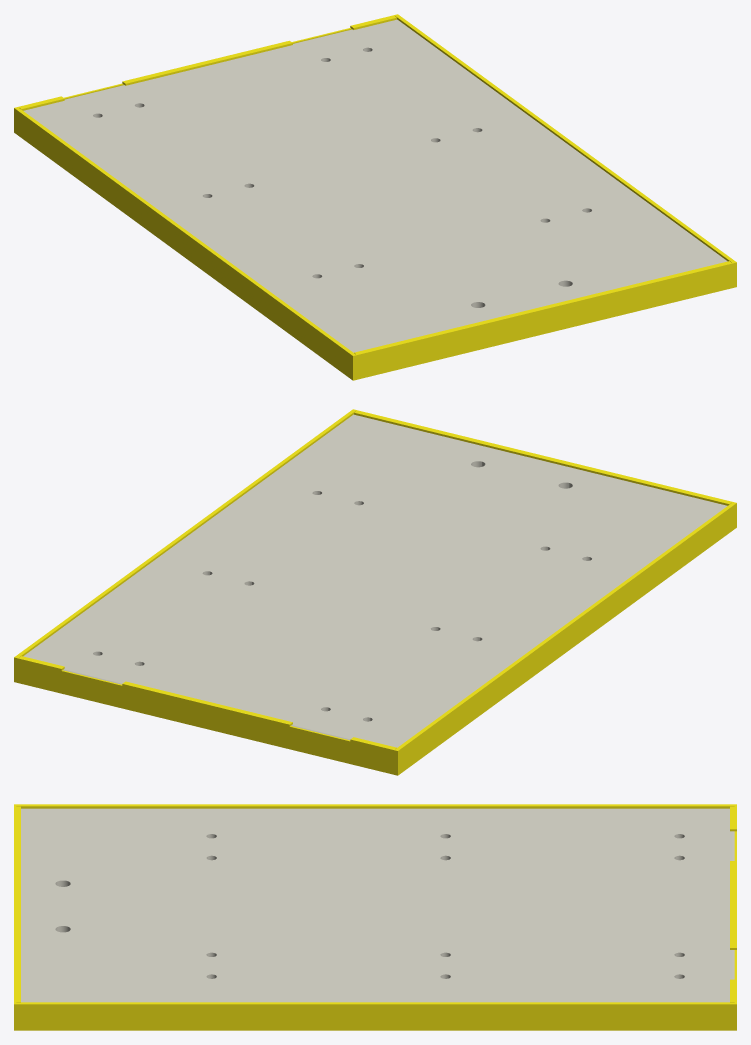
Rendered from frameLGSBlock1.glb.
3 views of the same model, one above another, from view 1: azimuth 30°, elevation 25°; view 2: azimuth 150°, elevation 25°; view 3: azimuth 270°, elevation 25° (orthographic). The views are drawn at different scales.
Parts seen in each view (by area): view 1: Body1002, Body1031, Body1029, Body1027, Body1033; view 2: Body1002, Body1033, Body1029, Body1031, Body1027; view 3: Body1002, Body1027, Body1029, Body1031, Body1033.
Boxes of the visible parts, x1,y1,x2,y2 form: Body1002: (23,19,727,352); Body1031: (352,261,736,380); Body1029: (15,108,355,379); Body1027: (395,15,735,262); Body1033: (14,14,398,132); Body1002: (23,414,727,747); Body1033: (14,656,398,775); Body1029: (395,503,735,774); Body1031: (352,409,736,527); Body1027: (15,410,355,657); Body1002: (21,808,734,1002); Body1027: (16,1002,734,1030); Body1029: (16,804,734,808); Body1031: (14,804,20,1030); Body1033: (730,804,736,1030).
Size of the model in its own units: 2.02 by 0.132 by 3.09.
